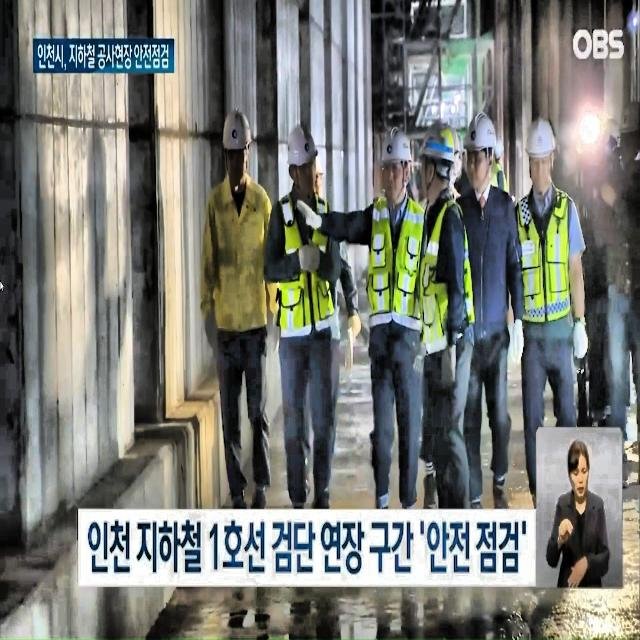safety_helmet: (524, 117, 574, 166), (215, 112, 263, 158), (278, 113, 316, 164), (372, 135, 420, 171), (466, 120, 501, 160), (428, 130, 454, 178)
safety_jacket: (516, 202, 601, 341), (278, 194, 338, 340), (425, 212, 471, 354), (370, 211, 410, 335)
